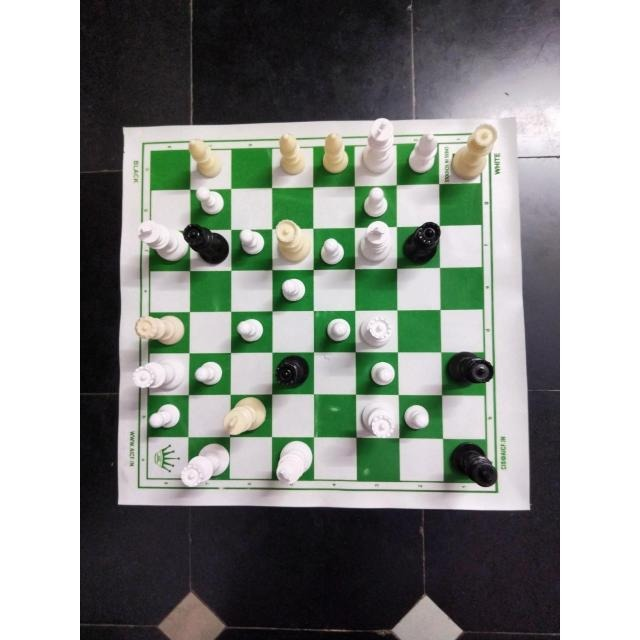black-king: (446, 438, 500, 493)
black-queen: (184, 219, 228, 269), (444, 352, 500, 390), (400, 219, 444, 262), (270, 354, 311, 390)
white-bishop: (272, 128, 307, 177), (318, 128, 353, 175), (186, 137, 222, 179), (406, 129, 440, 173)
white-king: (132, 218, 184, 266), (359, 117, 398, 177), (272, 439, 315, 492), (221, 395, 268, 437), (355, 219, 396, 267)
white-pawn: (360, 185, 394, 223), (190, 182, 226, 217), (235, 224, 269, 257), (320, 315, 355, 347), (190, 356, 225, 387), (145, 402, 183, 430), (315, 236, 347, 269), (366, 357, 400, 388), (276, 273, 306, 306), (233, 315, 265, 345), (401, 401, 431, 432)
white-queen: (450, 120, 500, 177), (178, 439, 233, 488), (130, 356, 186, 396), (131, 309, 189, 346), (270, 217, 311, 269), (357, 397, 399, 441), (356, 314, 393, 348)
